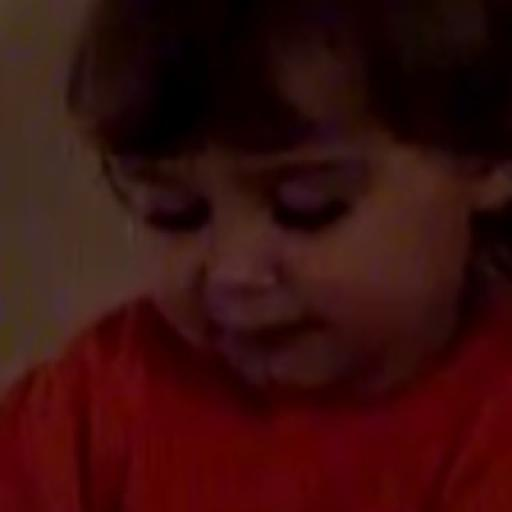Autism: (95, 2, 490, 465)
